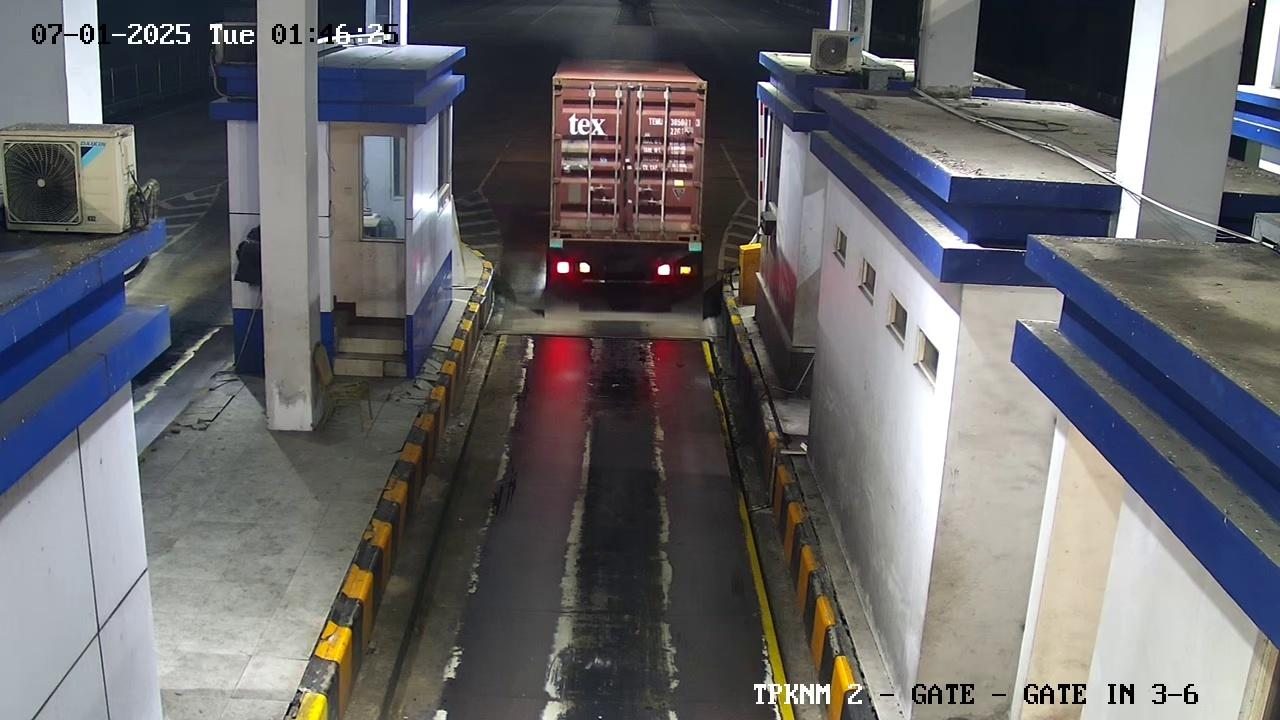Container_ID: (635, 113, 704, 128)
